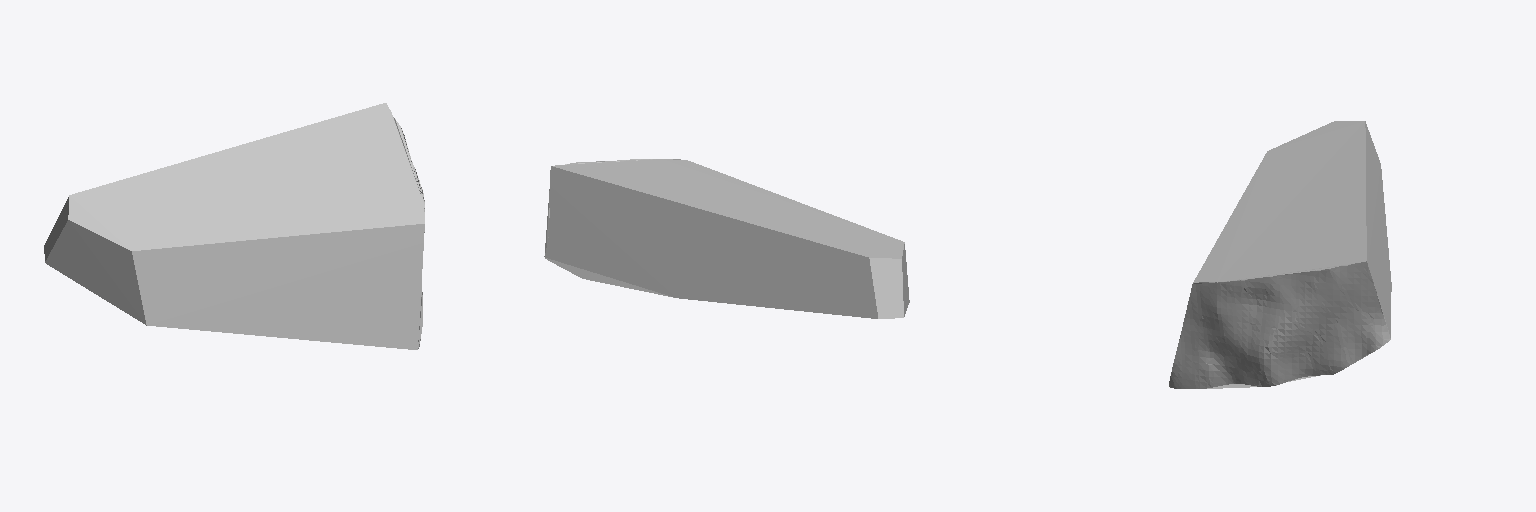
The model's file is low_cell_054.obj.
3 renders of one model, left to right at view 1: azimuth 30°, elevation 25°; view 2: azimuth 150°, elevation 25°; view 3: azimuth 270°, elevation 25°, orthographic.
Parts seen in each view (by area): view 1: low_cell.054_low_cell.053; view 2: low_cell.054_low_cell.053; view 3: low_cell.054_low_cell.053.
Part boxes in pixels (x1,y1,x2,y2): low_cell.054_low_cell.053: (44,103,424,349); low_cell.054_low_cell.053: (544,159,909,318); low_cell.054_low_cell.053: (1169,121,1391,388).
Bounding box in the file's own units: 1.17 × 0.511 × 0.6509.